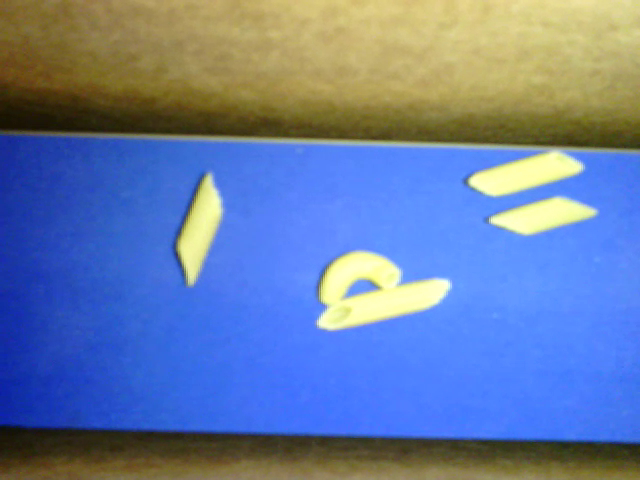elbow: (317, 248, 402, 306)
penne: (315, 276, 451, 331), (466, 150, 584, 197), (176, 172, 223, 287), (489, 196, 599, 235)
